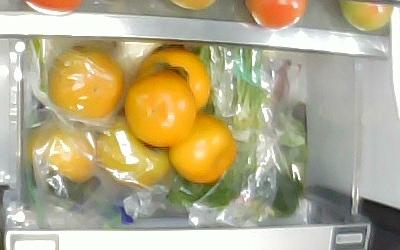persimmon: (124, 70, 198, 147), (137, 46, 210, 115), (165, 115, 237, 184)
persimmon_vinyl: (49, 48, 124, 122), (98, 118, 170, 187), (31, 121, 100, 190)
